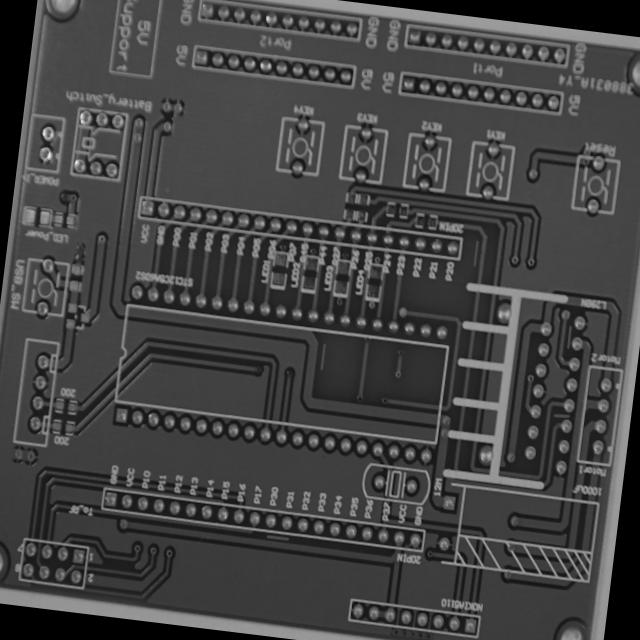spurious_copper: (262, 526, 292, 548), (314, 339, 332, 374), (468, 236, 484, 272), (562, 320, 578, 352), (549, 407, 572, 426)
